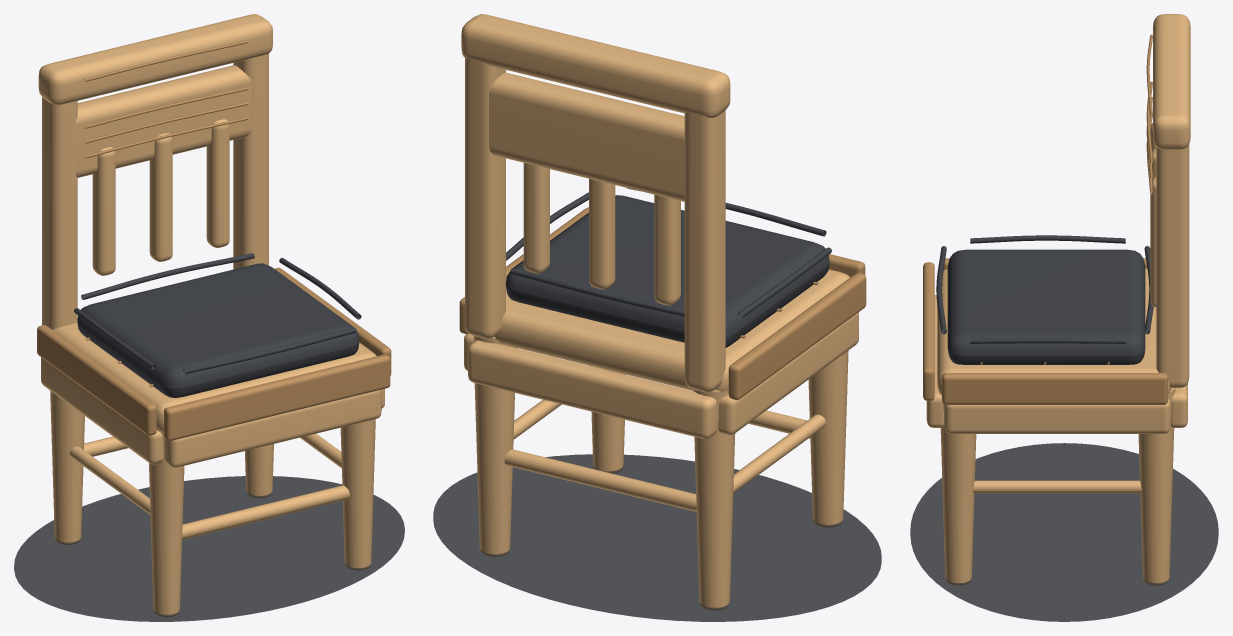
Rendered from chair.glb.
3 views of the same model, side by side, from view 1: azimuth 30°, elevation 25°; view 2: azimuth 150°, elevation 25°; view 3: azimuth 270°, elevation 25° (orthographic). The views are drawn at different scales.
Parts seen in each view (by area): view 1: BASE_BakedSoftContactShadow, PROP_Chair_Cushion_CharcoalPad, PROP_Chair_Backrest_CurvedOakPanel, PROP_Chair_Backrest_TopCrestRail, PROP_Chair_BackPost_L, PROP_Chair_FrontEndgrainLip, PROP_Chair_BackPost_R, PROP_Chair_FrontApronRail, PROP_Chair_FrontLeft_TaperedOakLeg, PROP_Chair_FrontRight_TaperedOakLeg, PROP_Chair_LeftEndgrainLip, PROP_Chair_BackLeft_TaperedOakLeg (+19 smaller); view 2: BASE_BakedSoftContactShadow, PROP_Chair_Cushion_CharcoalPad, PROP_Chair_Backrest_CurvedOakPanel, PROP_Chair_Backrest_TopCrestRail, PROP_Chair_BackPost_L, PROP_Chair_BackApronRail, PROP_Chair_SeatBase_BeveledOak, PROP_Chair_BackPost_R, PROP_Chair_BackLeft_TaperedOakLeg, PROP_Chair_BackRight_TaperedOakLeg, PROP_Chair_LeftEndgrainLip, PROP_Chair_FrontLeft_TaperedOakLeg (+13 smaller); view 3: BASE_BakedSoftContactShadow, PROP_Chair_Cushion_CharcoalPad, PROP_Chair_BackPost_R, PROP_Chair_RightEndgrainLip, PROP_Chair_RightSideApronRail, PROP_Chair_Backrest_TopCrestRail, PROP_Chair_BackRight_TaperedOakLeg, PROP_Chair_FrontRight_TaperedOakLeg, PROP_Chair_SeatBase_BeveledOak, PROP_Chair_RightFootStretcher, PROP_Chair_FrontEndgrainLip, PROP_Chair_Cushion_RightSoftPiping (+5 smaller).
Part boxes in pixels (x1=…): BASE_BakedSoftContactShadow: x1=14, y1=476, x2=404, y2=621; PROP_Chair_Cushion_CharcoalPad: x1=77, y1=263, x2=359, y2=397; PROP_Chair_Backrest_CurvedOakPanel: x1=75, y1=65, x2=251, y2=177; PROP_Chair_Backrest_TopCrestRail: x1=38, y1=14, x2=272, y2=104; PROP_Chair_BackPost_L: x1=42, y1=61, x2=77, y2=329; PROP_Chair_FrontEndgrainLip: x1=164, y1=354, x2=390, y2=440; PROP_Chair_BackPost_R: x1=233, y1=14, x2=268, y2=269; PROP_Chair_FrontApronRail: x1=164, y1=390, x2=381, y2=467; PROP_Chair_FrontLeft_TaperedOakLeg: x1=149, y1=428, x2=184, y2=616; PROP_Chair_FrontRight_TaperedOakLeg: x1=340, y1=419, x2=375, y2=570; PROP_Chair_LeftEndgrainLip: x1=37, y1=325, x2=156, y2=435; PROP_Chair_BackLeft_TaperedOakLeg: x1=50, y1=390, x2=84, y2=544; BASE_BakedSoftContactShadow: x1=433, y1=454, x2=881, y2=621; PROP_Chair_Cushion_CharcoalPad: x1=506, y1=195, x2=829, y2=347; PROP_Chair_Backrest_CurvedOakPanel: x1=489, y1=72, x2=685, y2=201; PROP_Chair_Backrest_TopCrestRail: x1=461, y1=14, x2=730, y2=117; PROP_Chair_BackPost_L: x1=684, y1=70, x2=725, y2=392; PROP_Chair_BackApronRail: x1=468, y1=340, x2=717, y2=438; PROP_Chair_SeatBase_BeveledOak: x1=494, y1=269, x2=850, y2=392; PROP_Chair_BackPost_R: x1=465, y1=17, x2=505, y2=338; PROP_Chair_BackLeft_TaperedOakLeg: x1=693, y1=389, x2=735, y2=610; PROP_Chair_BackRight_TaperedOakLeg: x1=473, y1=336, x2=515, y2=556; PROP_Chair_LeftEndgrainLip: x1=728, y1=273, x2=866, y2=399; PROP_Chair_FrontLeft_TaperedOakLeg: x1=808, y1=350, x2=848, y2=527; BASE_BakedSoftContactShadow: x1=910, y1=443, x2=1218, y2=621; PROP_Chair_Cushion_CharcoalPad: x1=947, y1=249, x2=1145, y2=364; PROP_Chair_BackPost_R: x1=1156, y1=109, x2=1189, y2=387; PROP_Chair_RightEndgrainLip: x1=942, y1=373, x2=1167, y2=404; PROP_Chair_RightSideApronRail: x1=944, y1=399, x2=1170, y2=433; PROP_Chair_Backrest_TopCrestRail: x1=1153, y1=14, x2=1190, y2=149; PROP_Chair_BackRight_TaperedOakLeg: x1=1138, y1=388, x2=1175, y2=585; PROP_Chair_FrontRight_TaperedOakLeg: x1=940, y1=404, x2=976, y2=585; PROP_Chair_SeatBase_BeveledOak: x1=937, y1=268, x2=1171, y2=395; PROP_Chair_RightFootStretcher: x1=973, y1=480, x2=1141, y2=493; PROP_Chair_FrontEndgrainLip: x1=923, y1=262, x2=934, y2=400; PROP_Chair_Cushion_RightSoftPiping: x1=970, y1=338, x2=1125, y2=343.
Size of the model in its own units: 0.882 by 1.1 by 0.6552.
